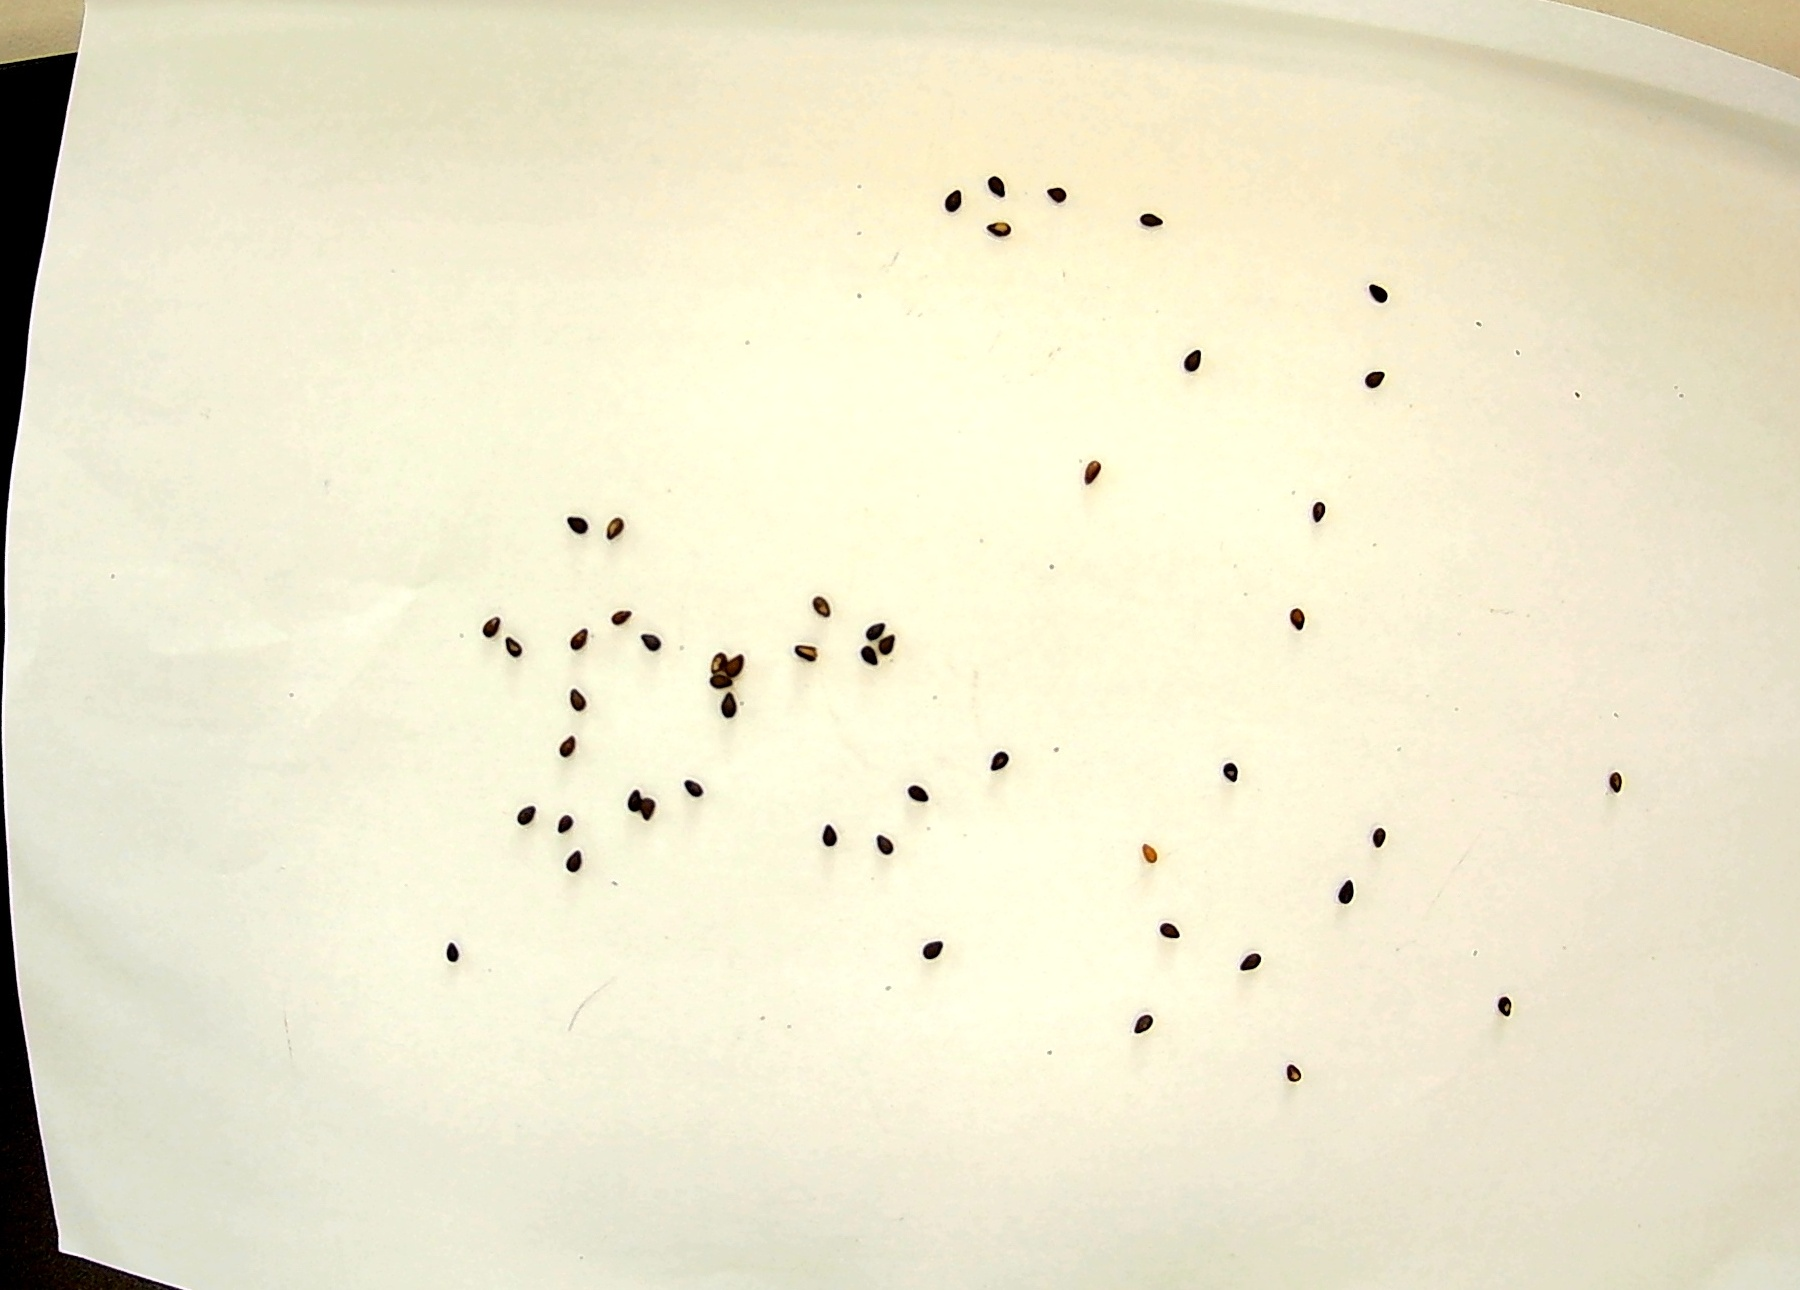sesami: (554, 683, 606, 718), (1178, 341, 1215, 385), (601, 512, 638, 558), (1076, 455, 1118, 494), (786, 639, 834, 669), (1280, 600, 1312, 642), (978, 173, 1013, 208), (442, 940, 480, 972), (562, 512, 599, 544), (1353, 279, 1393, 309), (638, 628, 671, 659), (695, 641, 726, 674), (872, 825, 900, 861), (675, 778, 717, 800), (1133, 207, 1172, 230), (1140, 840, 1165, 877), (502, 625, 525, 666), (1154, 914, 1182, 947), (568, 620, 592, 658), (853, 646, 883, 674), (1233, 947, 1264, 974), (942, 186, 967, 219), (921, 933, 945, 966), (479, 607, 501, 642), (607, 600, 633, 630), (860, 617, 889, 644), (511, 806, 543, 829), (1334, 874, 1358, 906), (719, 690, 741, 723), (1215, 757, 1242, 785), (816, 822, 841, 852), (1278, 1061, 1307, 1086), (726, 645, 747, 680), (1494, 988, 1515, 1023), (1358, 369, 1390, 391), (1306, 497, 1328, 529), (560, 727, 576, 769), (809, 592, 834, 620), (984, 748, 1012, 773), (1042, 181, 1067, 209), (1133, 1011, 1157, 1040), (980, 222, 1024, 237), (562, 845, 585, 874), (1606, 768, 1624, 803), (906, 780, 931, 806), (553, 808, 573, 838), (621, 785, 642, 814), (642, 794, 661, 824), (706, 674, 735, 692), (1366, 822, 1386, 847), (878, 637, 897, 659)
